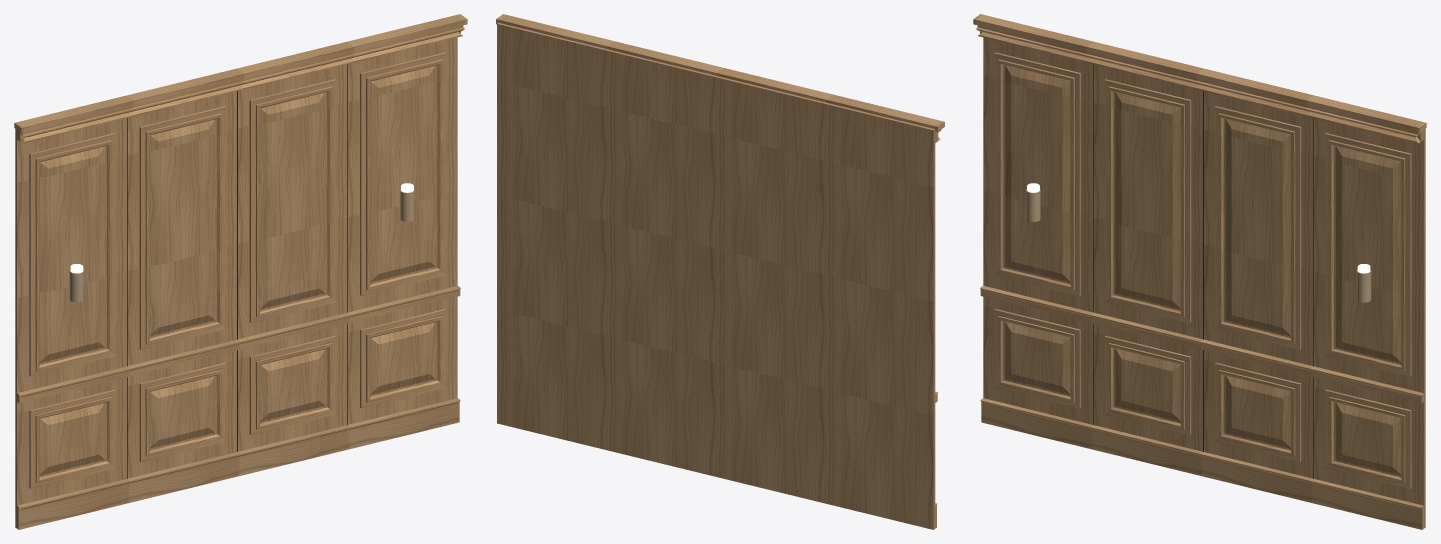
Rendered from boiserie.glb.
3 renders of one model, left to right at view 1: azimuth 30°, elevation 25°; view 2: azimuth 150°, elevation 25°; view 3: azimuth 330°, elevation 25°, orthographic.
Parts seen in each view (by area): view 1: finitura, schienale, zoccolo, bronzo; view 2: schienale, finitura; view 3: finitura, schienale, zoccolo, bronzo.
Boxes of the visible parts, x1,y1,x2,y2 form: finitura: (14,14,467,529); schienale: (15,37,457,528); zoccolo: (127,64,347,478); bronzo: (69,189,414,302); schienale: (497,23,935,529); finitura: (496,14,944,528); finitura: (973,14,1426,529); schienale: (983,37,1425,528); zoccolo: (1093,64,1313,478); bronzo: (1026,189,1371,302).
Size of the model in its own units: 3.24 by 2.82 by 0.1249.
5 materials, 2 textured.
